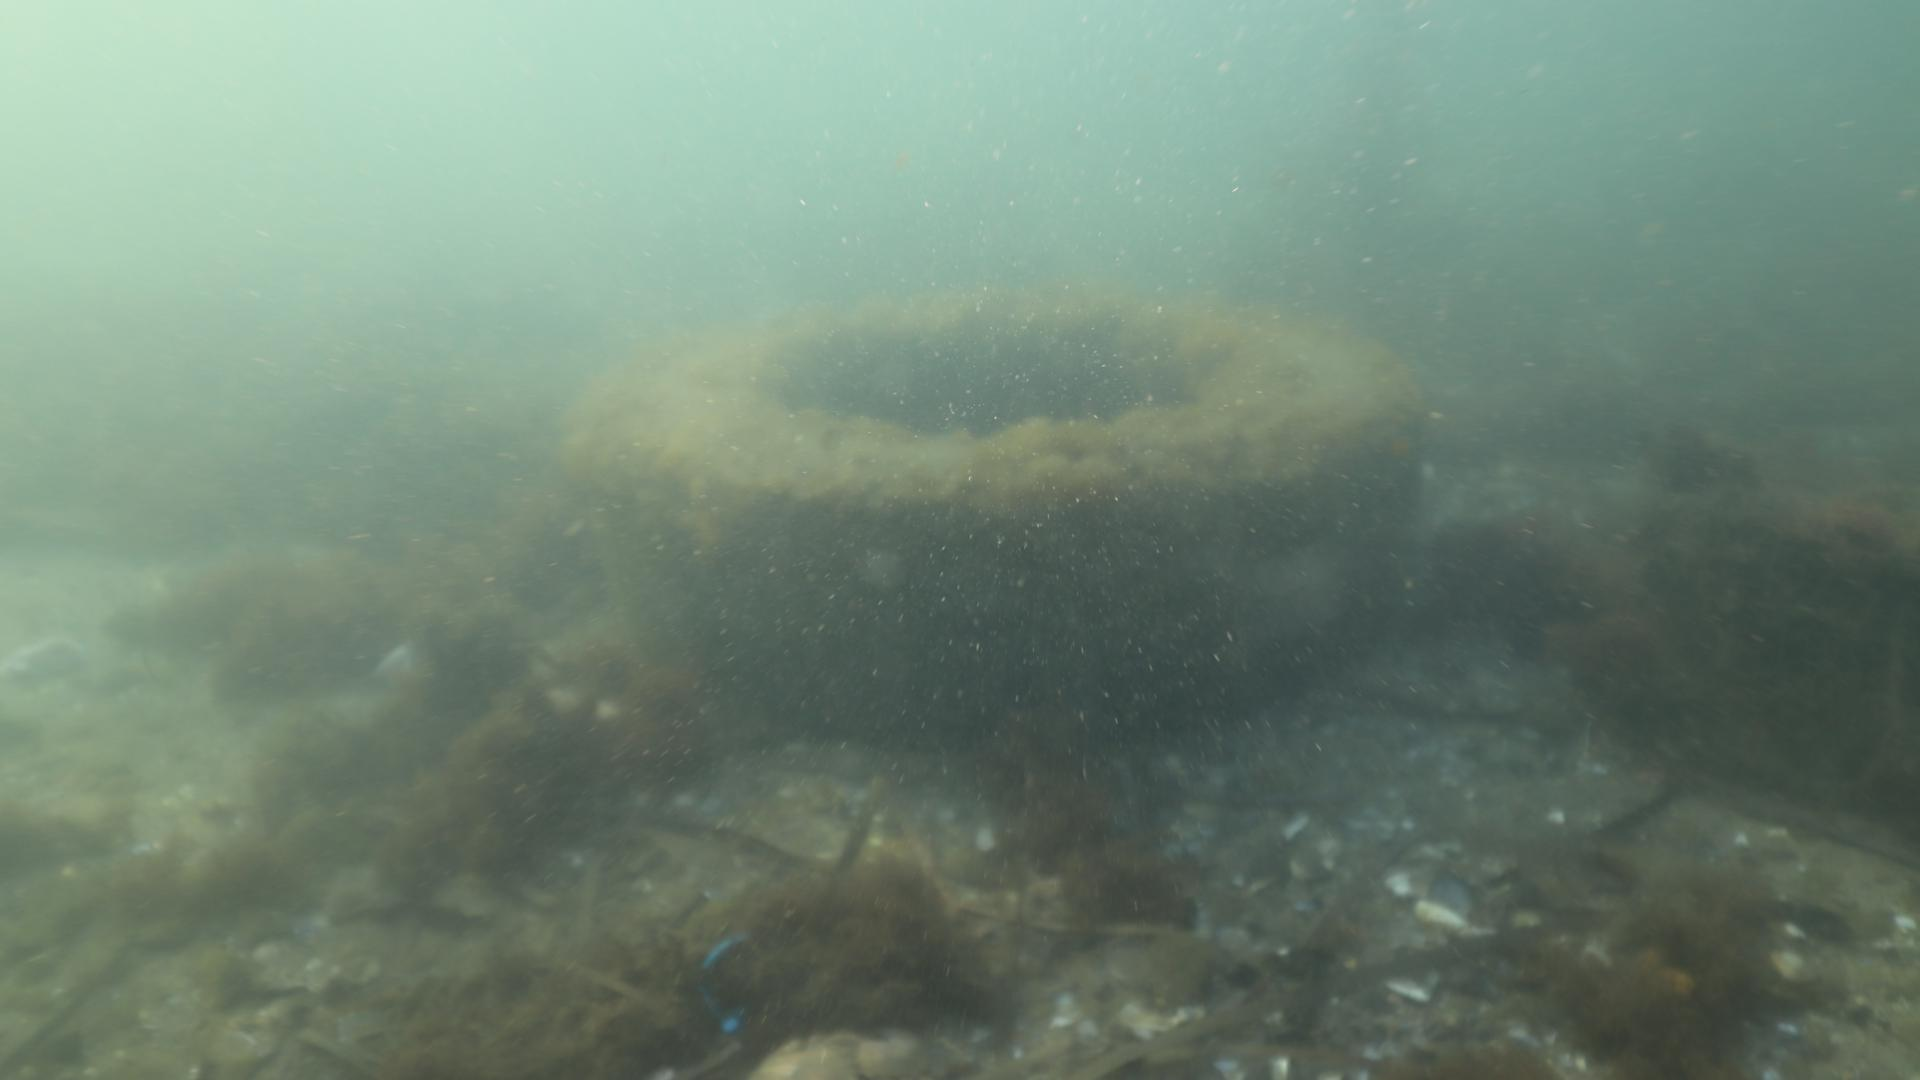tire: (566, 285, 1414, 744)
